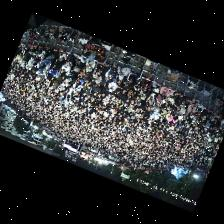person: (126, 63, 144, 84), (60, 55, 74, 73), (141, 73, 152, 91), (66, 65, 78, 81), (173, 91, 186, 105), (96, 61, 109, 75), (160, 86, 173, 98), (40, 54, 51, 68), (82, 82, 93, 96), (117, 66, 129, 78), (82, 67, 94, 79), (75, 55, 86, 68), (131, 80, 140, 95), (58, 47, 68, 60), (85, 58, 95, 70), (165, 103, 175, 114), (94, 71, 104, 82), (108, 78, 116, 91), (165, 93, 173, 106), (122, 81, 130, 94), (116, 75, 126, 85), (35, 50, 44, 61), (202, 107, 211, 118), (110, 64, 117, 78), (187, 104, 195, 116), (178, 103, 185, 116), (196, 101, 203, 114), (138, 86, 145, 99), (96, 77, 105, 87), (44, 47, 54, 56), (92, 85, 101, 95), (22, 43, 31, 52), (209, 109, 217, 119), (168, 114, 175, 125), (105, 67, 110, 82), (152, 82, 160, 91), (102, 94, 109, 104), (52, 49, 59, 58), (157, 99, 165, 105), (116, 85, 121, 94), (221, 118, 223, 128)
